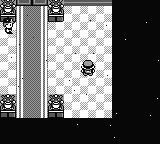leer: (0, 94, 16, 118), (48, 95, 63, 118), (49, 0, 64, 22), (0, 0, 15, 22)
main: (81, 60, 95, 76)
no-caminable: (1, 0, 160, 143), (63, 0, 112, 6)
npc: (2, 18, 15, 34)
puerta: (16, 0, 47, 6)
